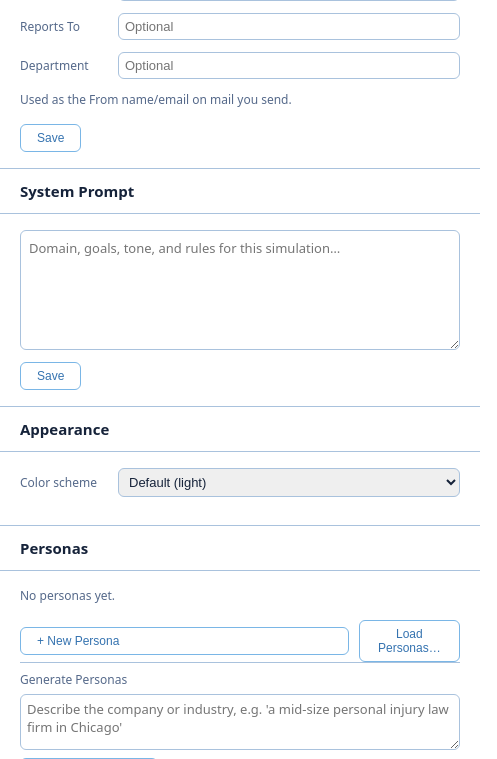
Test case: SettingsView › System Prompt › shows its own Saved indicator independently of the other sections
The image size is (497, 759).
(page scrolled)
Click the 2nd button "Save". click: (51, 376)
box: [20, 362, 81, 390]
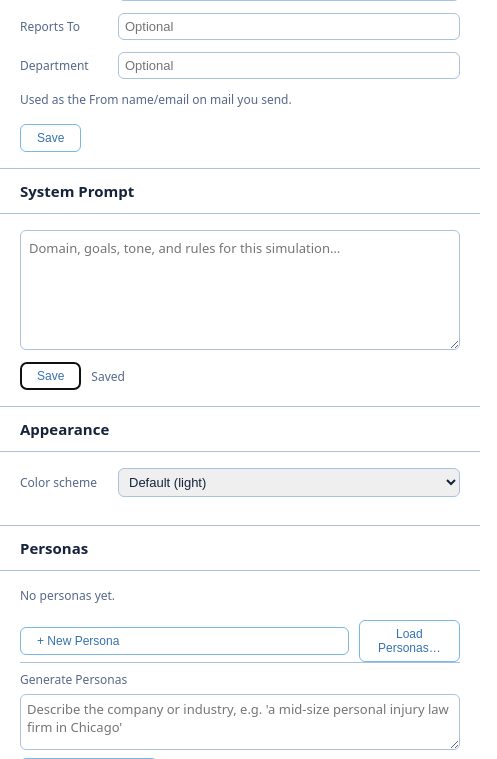
Check: the text "Saved" is shown, box [91, 368, 125, 384]
